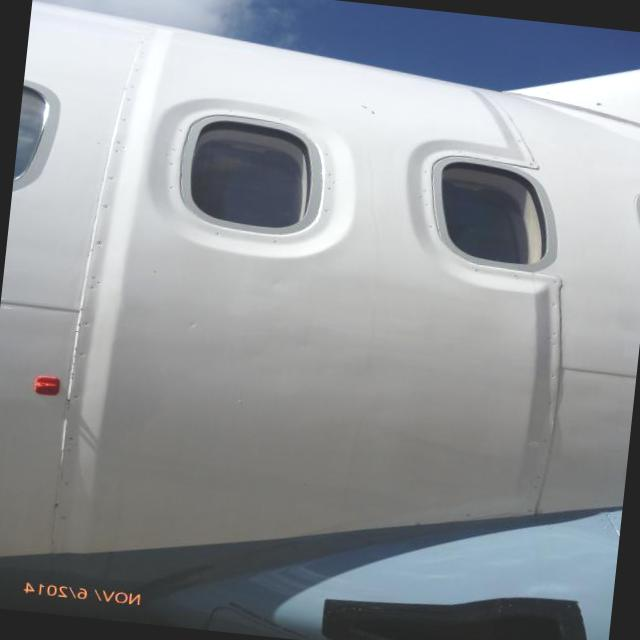dent: (259, 270, 296, 297), (241, 343, 269, 368), (178, 314, 205, 334)
